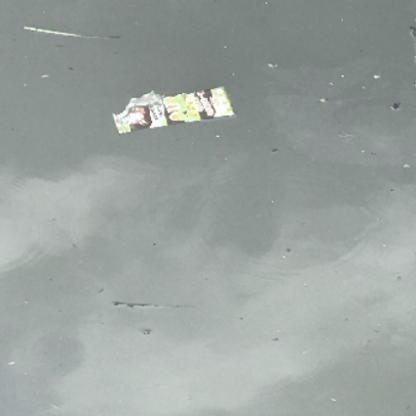Trash: (110, 78, 235, 138)
